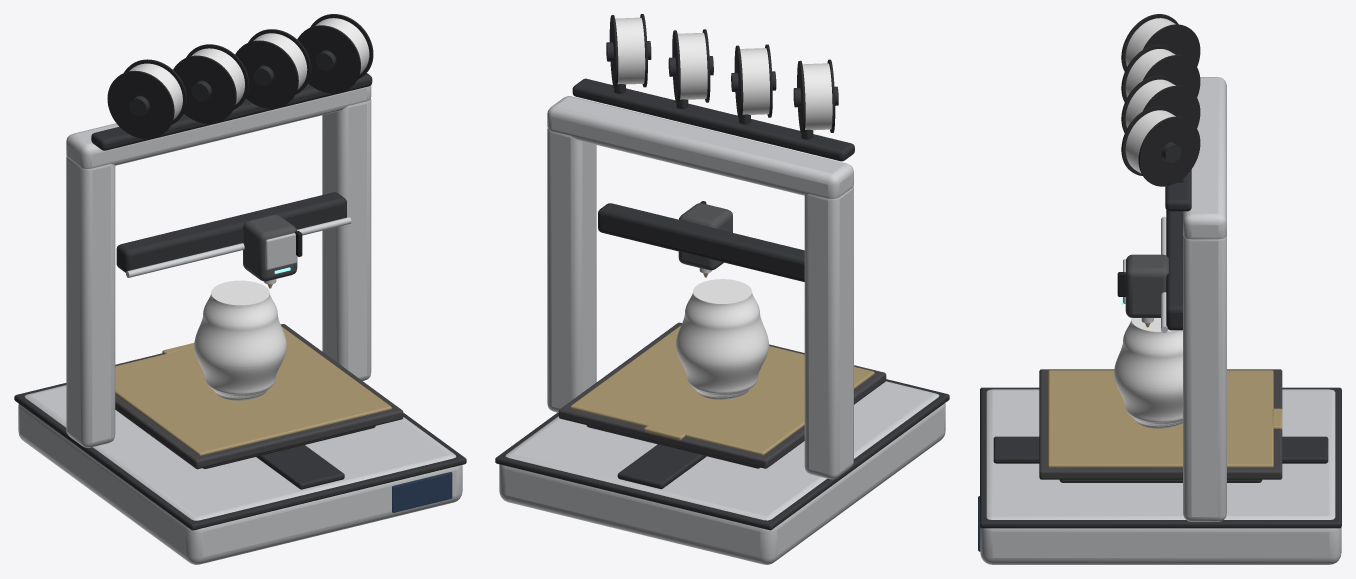
The model's file is bedSlinger.glb.
3 renders of one model, left to right at view 1: azimuth 30°, elevation 25°; view 2: azimuth 150°, elevation 25°; view 3: azimuth 270°, elevation 25°, orthographic.
Parts seen in each view (by area): view 1: Base, Plate, Tower, Tower.001, TopBar, XBeam, BedFrame, BaseTrim, Flange_0_F, Flange_3_F, Flange_2_F, Flange_1_F (+11 smaller); view 2: Base, Plate, Tower, Tower.001, TopBar, XBeam, LiteRail, BaseTrim, BedFrame, YRailCover, Filament_2, Filament_0 (+4 smaller); view 3: Base, Plate, Tower.001, BaseTrim, TopBar, BedFrame, Flange_3_B, YRailCover, ToolBody, XBeam, Flange_1_B, Flange_2_B (+10 smaller).
Boxes of the visible parts, bbox=[...] form: Base: bbox=[18, 385, 462, 564]; Plate: bbox=[115, 326, 391, 455]; Tower: bbox=[66, 156, 115, 447]; Tower.001: bbox=[322, 99, 371, 380]; TopBar: bbox=[66, 85, 371, 168]; XBeam: bbox=[116, 192, 346, 272]; BedFrame: bbox=[115, 324, 403, 469]; BaseTrim: bbox=[14, 383, 466, 530]; Flange_0_F: bbox=[107, 70, 174, 138]; Flange_3_F: bbox=[297, 25, 360, 93]; Flange_2_F: bbox=[235, 40, 298, 108]; Flange_1_F: bbox=[173, 55, 236, 123]; Base: bbox=[499, 381, 945, 564]; Plate: bbox=[570, 325, 874, 455]; Tower: bbox=[804, 186, 853, 479]; Tower.001: bbox=[547, 128, 596, 412]; TopBar: bbox=[547, 96, 853, 198]; XBeam: bbox=[598, 203, 804, 281]; LiteRail: bbox=[572, 78, 854, 161]; BaseTrim: bbox=[495, 379, 949, 530]; BedFrame: bbox=[558, 322, 886, 468]; YRailCover: bbox=[617, 444, 706, 489]; Filament_2: bbox=[677, 33, 707, 99]; Filament_0: bbox=[802, 63, 832, 130]; Base: bbox=[980, 389, 1341, 564]; Plate: bbox=[1048, 370, 1273, 467]; Tower.001: bbox=[1183, 234, 1226, 521]; BaseTrim: bbox=[980, 387, 1341, 528]; TopBar: bbox=[1183, 77, 1226, 239]; BedFrame: bbox=[1039, 369, 1282, 479]; Flange_3_B: bbox=[1138, 116, 1200, 186]; YRailCover: bbox=[993, 436, 1328, 463]; ToolBody: bbox=[1125, 254, 1168, 317]; XBeam: bbox=[1166, 210, 1182, 330]; Flange_1_B: bbox=[1143, 55, 1200, 97]; Flange_2_B: bbox=[1143, 85, 1200, 127].
Size of the model in its own units: 0.385 by 0.551 by 0.4131.
